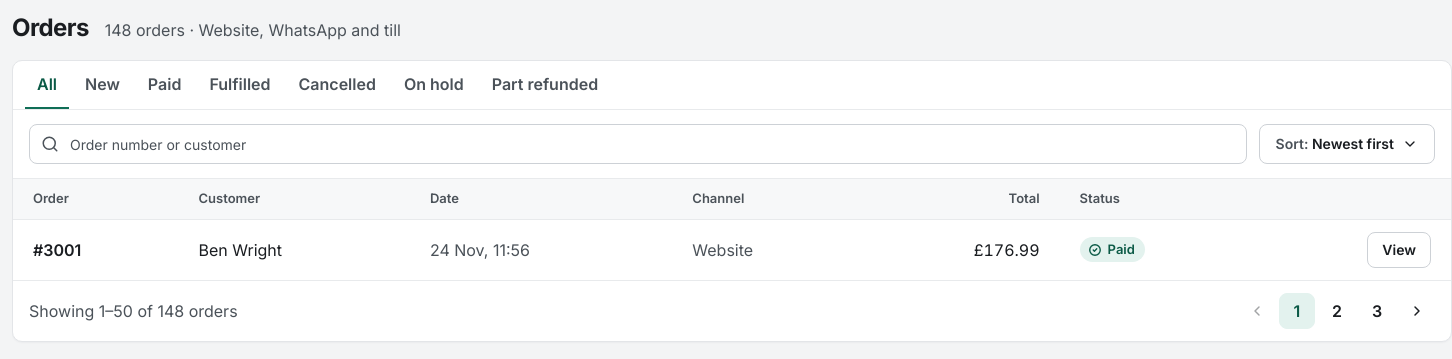
Test: OrdersPage › requests 50 orders per page and moves between pages
The image size is (1452, 359).
What coordinates should you click on to do the following:
click the button named "Next page"
I would click on:
 (1417, 310)
Its box is x1=1399 y1=292 x2=1435 y2=328.
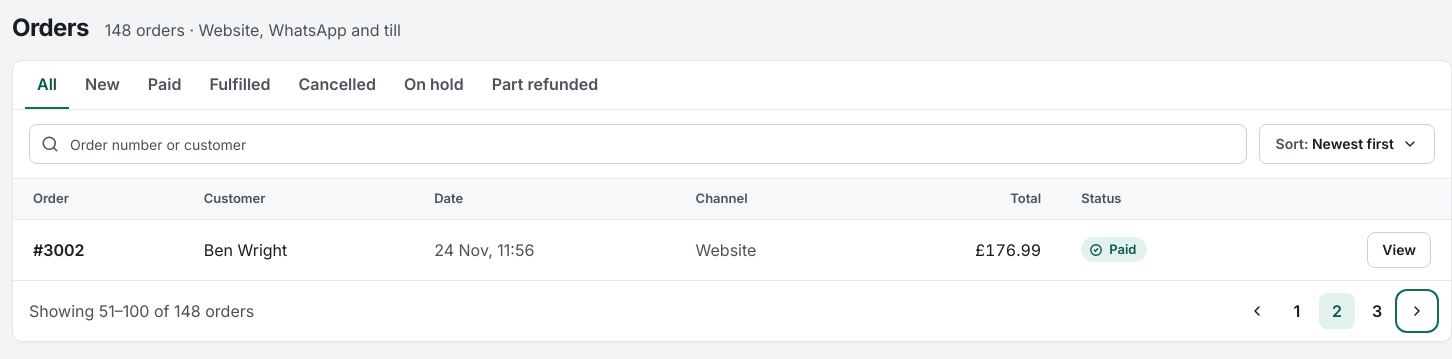
Expected: the column heading "#3002" is shown, x1=13 y1=220 x2=184 y2=280
Expected: the text "Showing 51–100 of 148 orders" is shown, x1=29 y1=298 x2=254 y2=322
